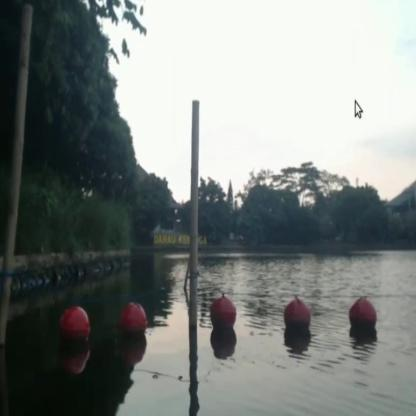red_buoy: (58, 306, 90, 352), (115, 304, 146, 350), (346, 297, 376, 336), (284, 298, 311, 340), (210, 293, 236, 335)
